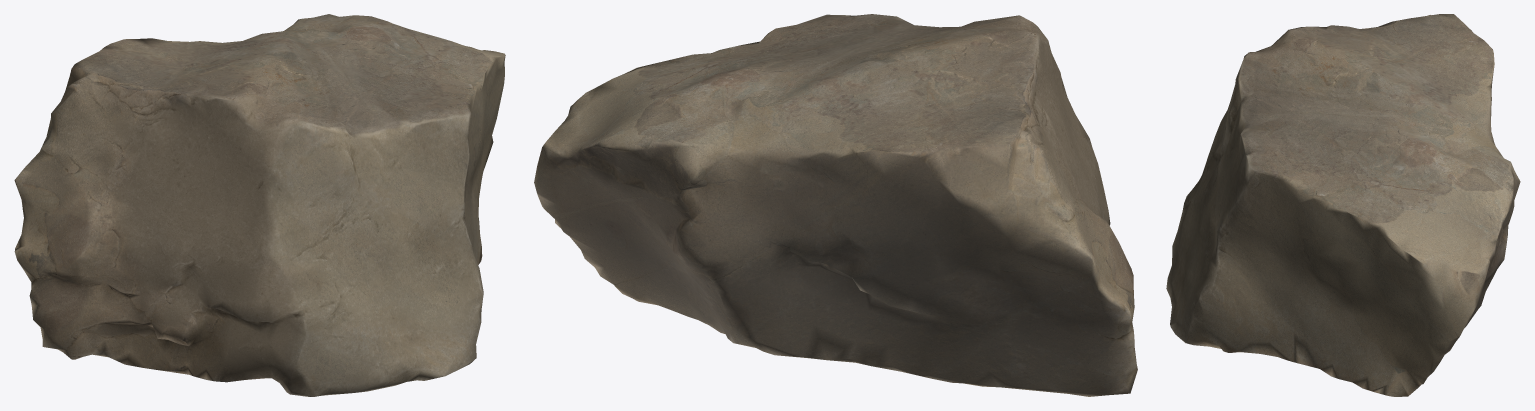
The model's file is vmkefai_tier_2.gltf.
3 views of the same model, side by side, from view 1: azimuth 30°, elevation 25°; view 2: azimuth 150°, elevation 25°; view 3: azimuth 270°, elevation 25° (orthographic). The views are drawn at different scales.
Parts seen in each view (by area): view 1: vmkefai_LOD0_TIER2_000; view 2: vmkefai_LOD0_TIER2_000; view 3: vmkefai_LOD0_TIER2_000.
Part boxes in pixels (x1,y1,x2,y2): vmkefai_LOD0_TIER2_000: (14, 14, 505, 396); vmkefai_LOD0_TIER2_000: (534, 14, 1137, 396); vmkefai_LOD0_TIER2_000: (1166, 14, 1520, 396).
Bounding box in the file's own units: 1.99 × 1 × 1.36.
Materials: 1 (1 with a texture image).
